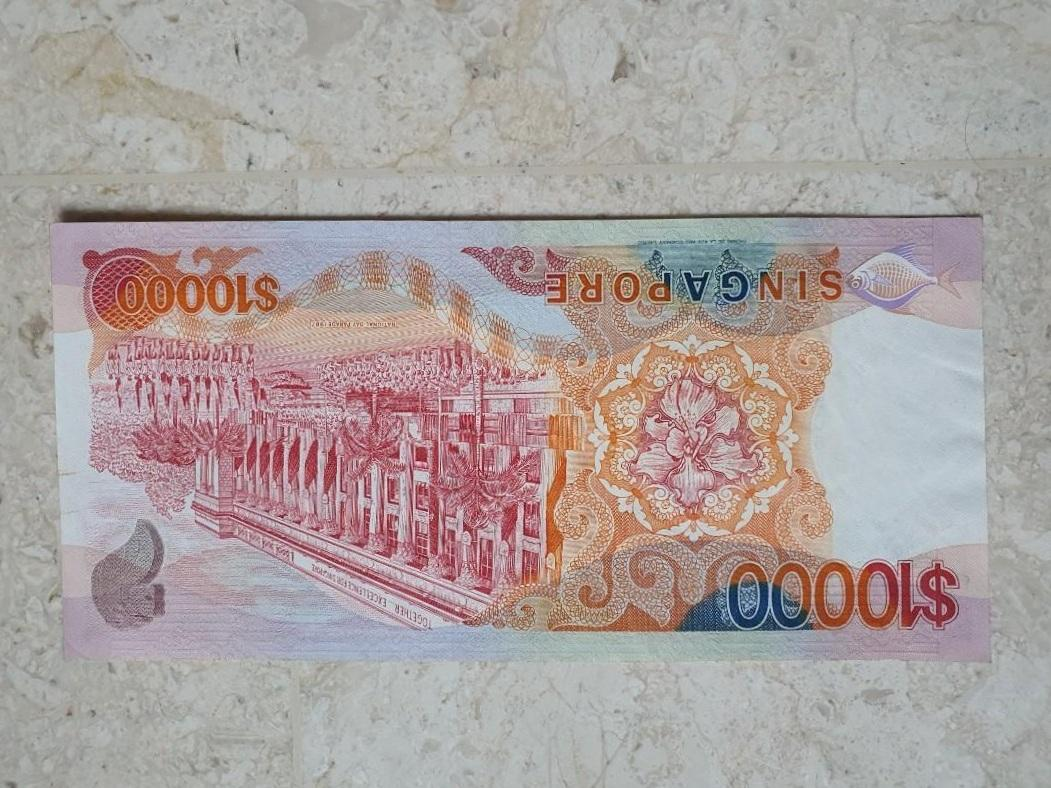10000SingaporeDollar: (62, 223, 982, 653)
